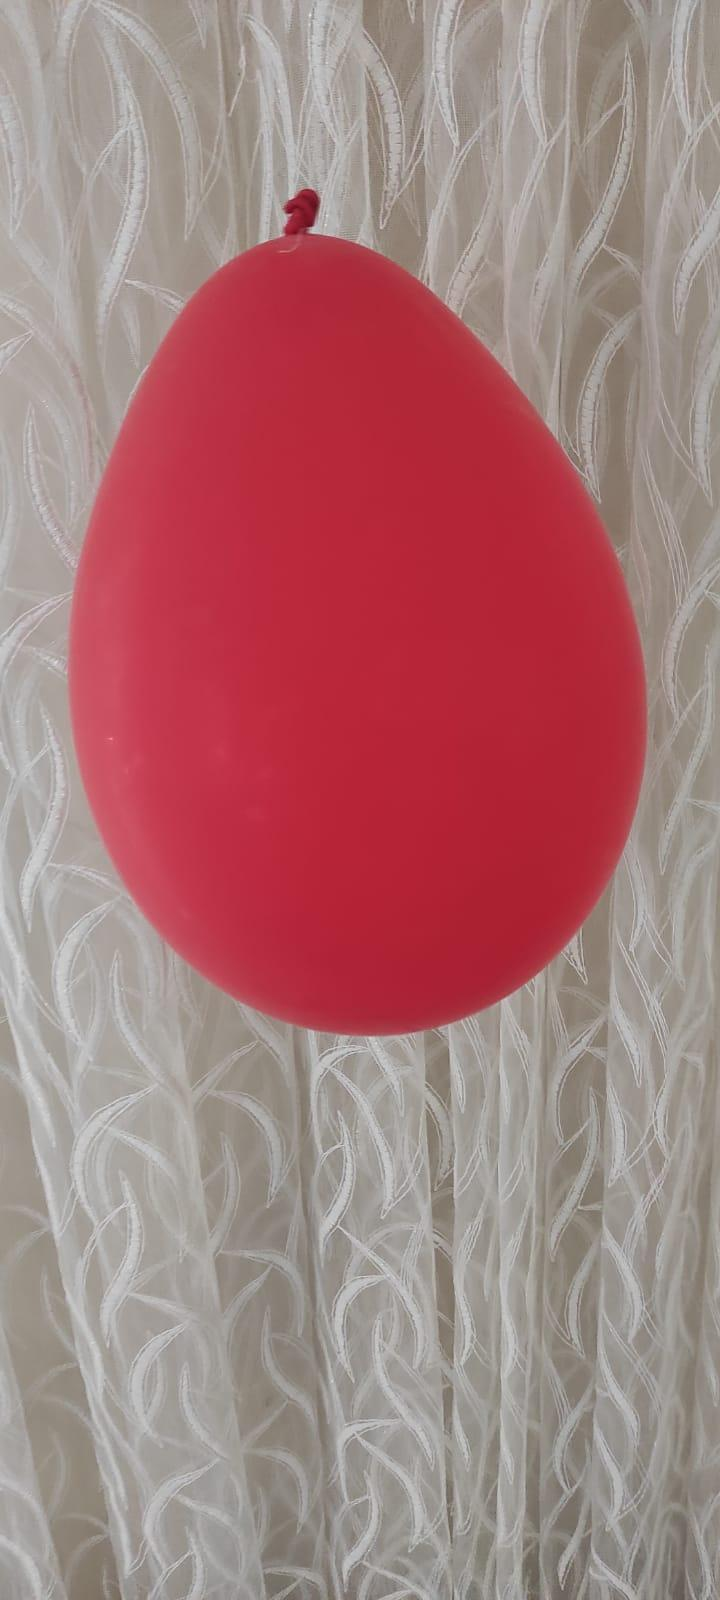red: (64, 178, 657, 1044)
